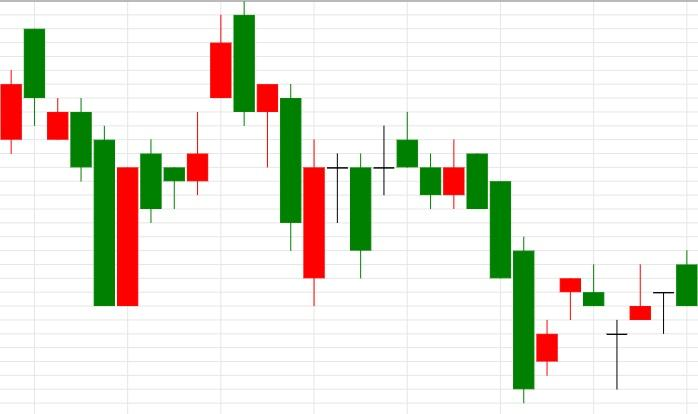bearish_engulfing_fall: (93, 0, 255, 307)
hanging_man_fall: (512, 236, 582, 403)
